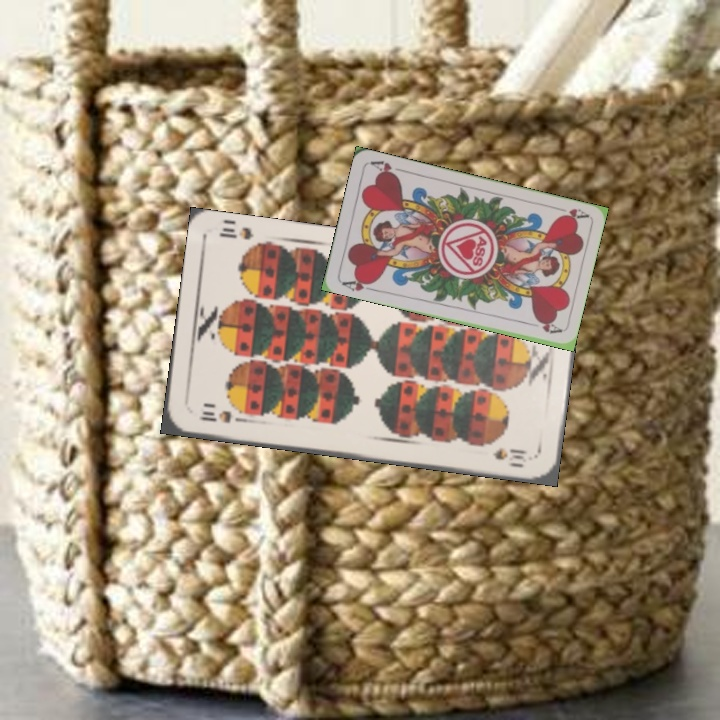HA: (338, 273, 378, 294), (550, 202, 590, 223)
S10: (195, 406, 247, 426)
